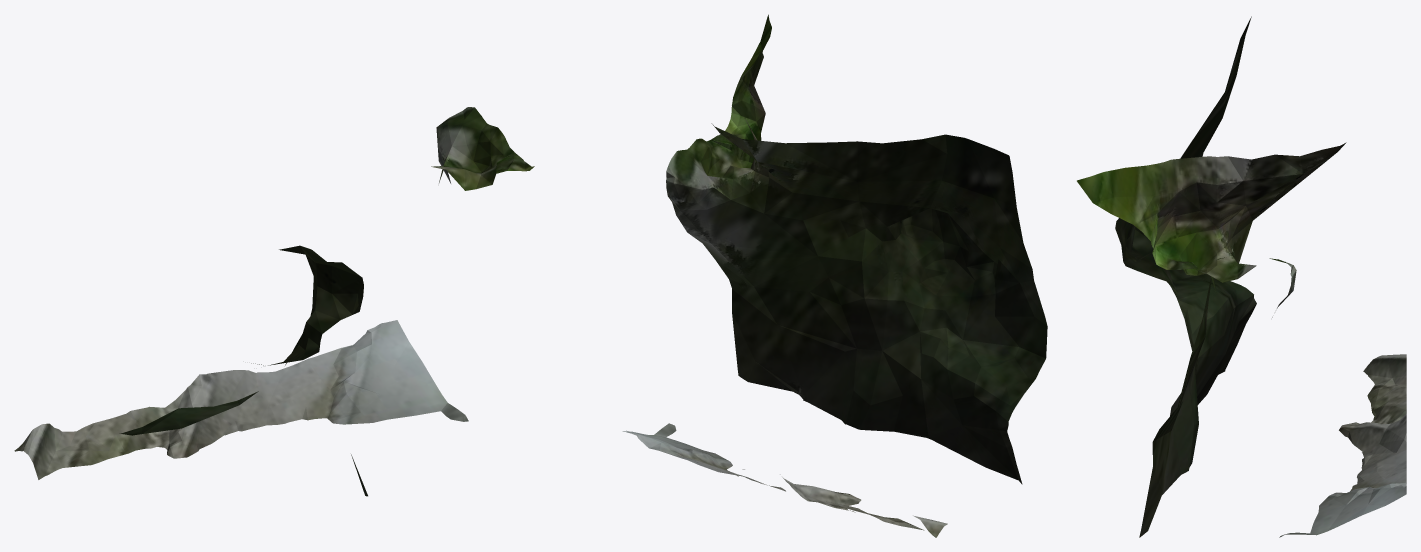
3 renders of one model, left to right at view 1: azimuth 30°, elevation 25°; view 2: azimuth 150°, elevation 25°; view 3: azimuth 270°, elevation 25°, orthographic. The views are drawn at different scales.
Bounding box in the file's own units: 0.8373 × 0.8373 × 0.7013.
3 materials, 3 textured.
